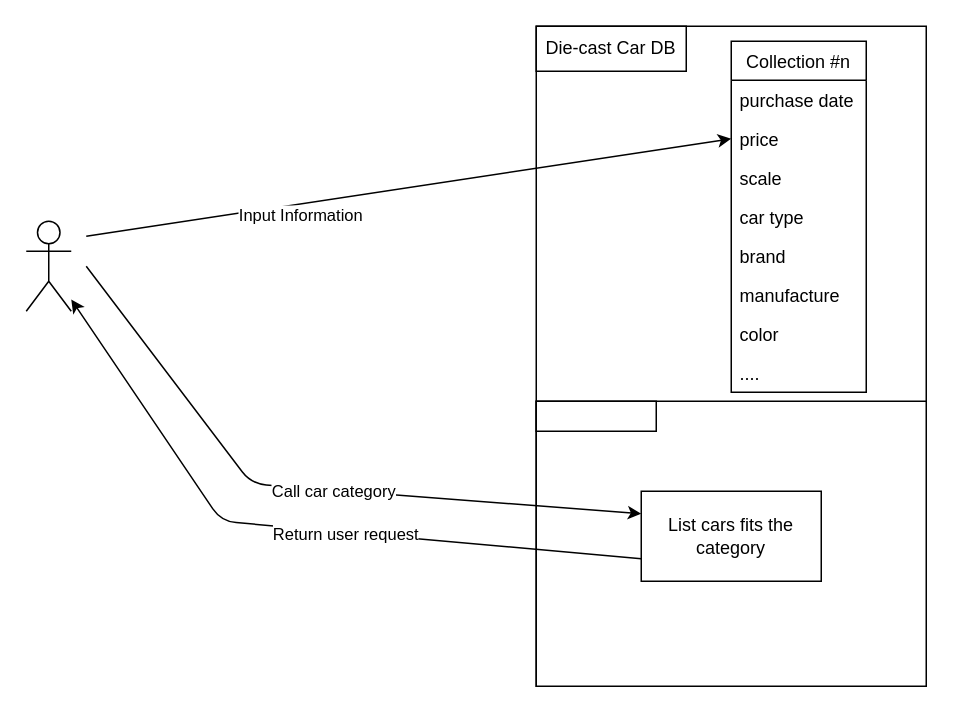
This 953x713 diagram has some shape labels left out. The shapes that lost their labels are listed below. From the top down, each one's centre as x and y in pixels, then its label:
At [48,265]: "User".
At [595,415]: "DB Finder".
